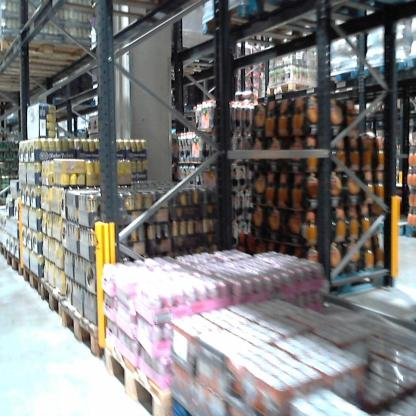pallet: (193, 1, 320, 70), (98, 336, 169, 414), (248, 1, 385, 38), (1, 31, 105, 77), (60, 299, 112, 358), (36, 272, 67, 330), (361, 57, 404, 88), (366, 213, 411, 241), (263, 83, 321, 102), (167, 396, 214, 415), (321, 66, 360, 86), (22, 262, 40, 299), (6, 250, 23, 280), (401, 53, 415, 73), (1, 238, 8, 266), (404, 222, 415, 239)
